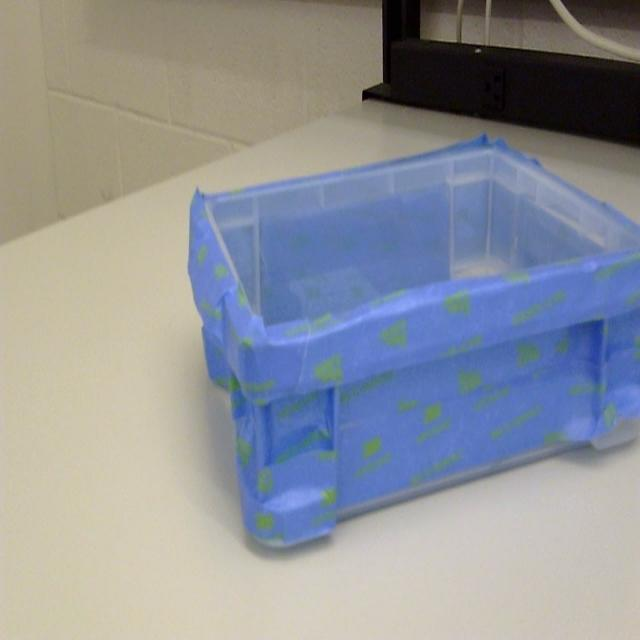bucket: (187, 135, 640, 556)
